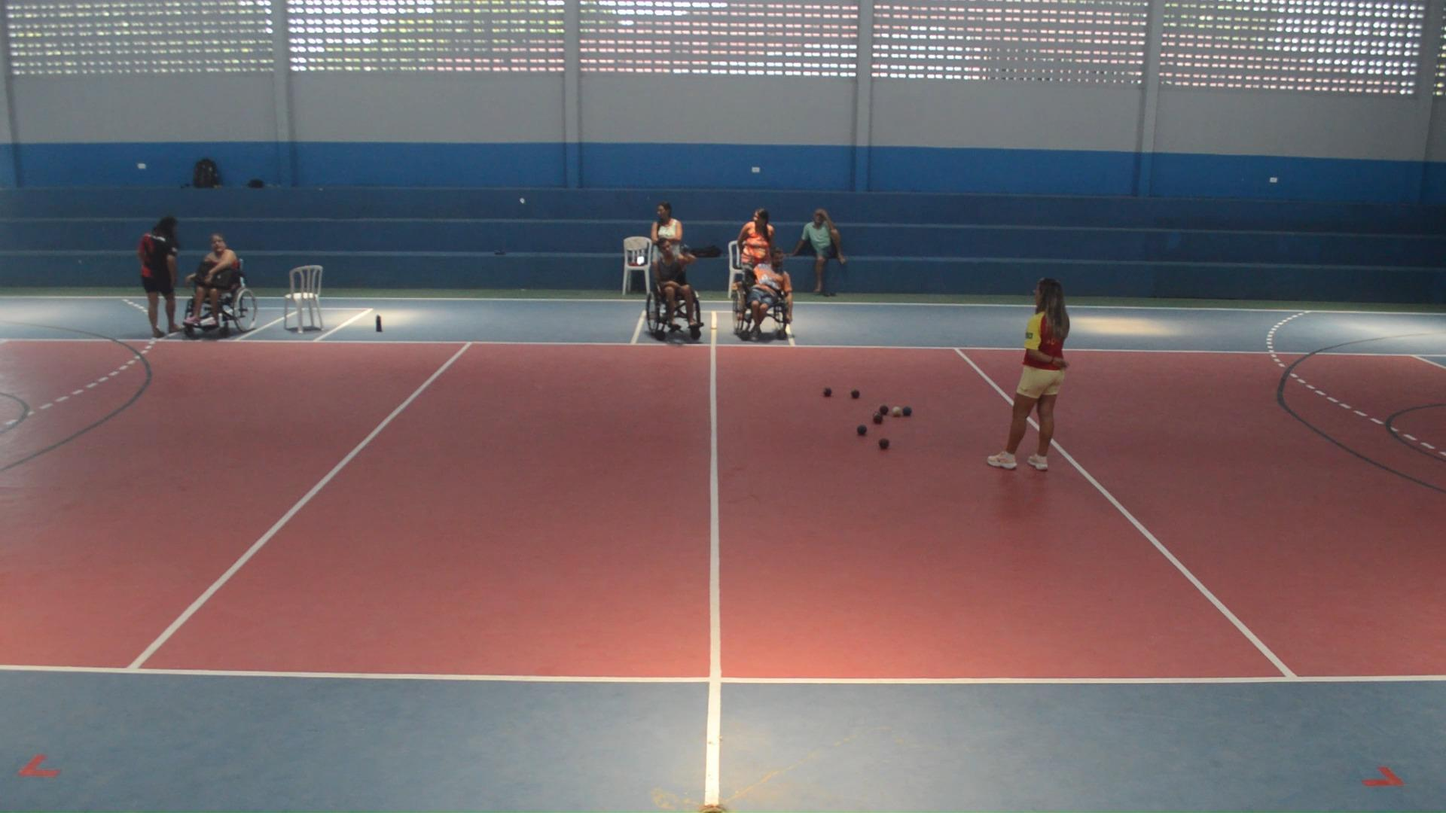blue_ball: (856, 423, 868, 437), (902, 406, 912, 416)
red_ball: (879, 438, 889, 449), (823, 387, 833, 398), (851, 389, 860, 398)
white_ball: (892, 406, 901, 417)
